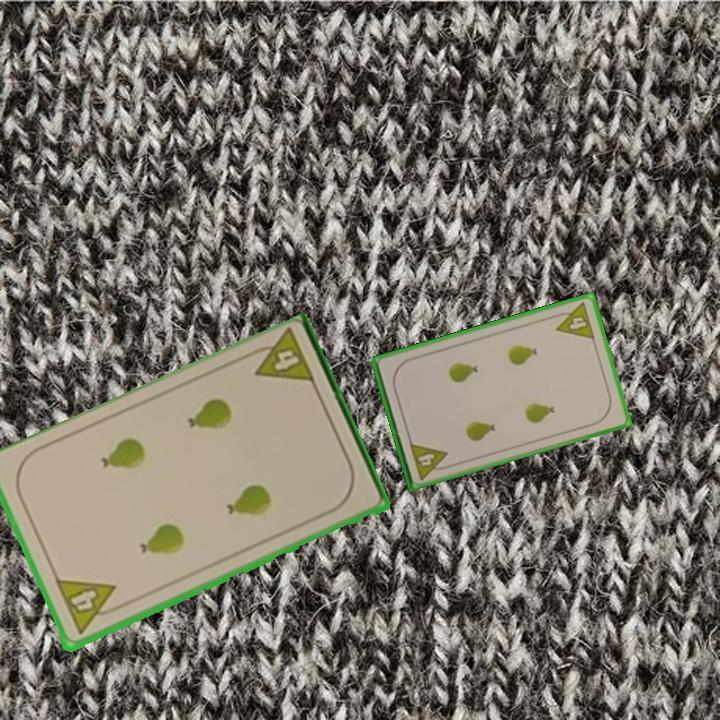4p: (242, 327, 318, 389), (52, 576, 125, 638), (549, 299, 598, 342), (406, 439, 453, 483)
